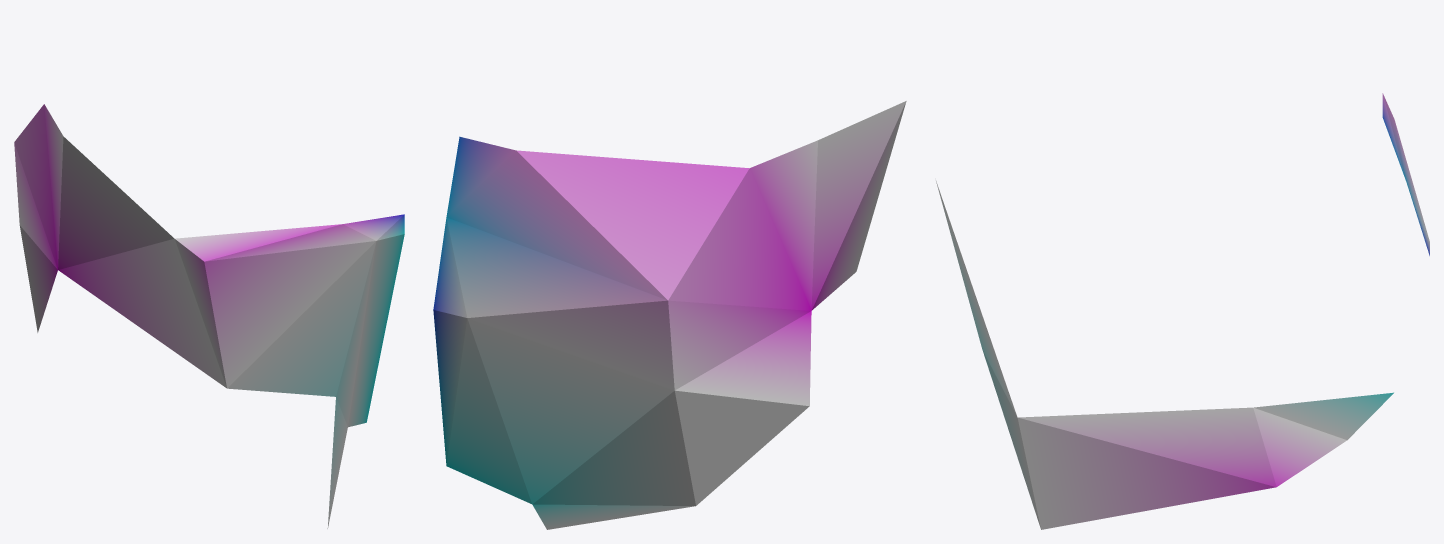
3 views of the same model, side by side, from view 1: azimuth 30°, elevation 25°; view 2: azimuth 150°, elevation 25°; view 3: azimuth 270°, elevation 25° (orthographic). The views are drawn at different scales.
Parts seen in each view (by area): view 1: model_1147; view 2: model_1147; view 3: model_1147.
Part boxes in pixels (box(x1,y1,x2,y2)): model_1147: box(14, 104, 404, 528); model_1147: box(433, 101, 906, 529); model_1147: box(936, 93, 1429, 529).
Size of the model in its own units: 24 by 40 by 42.
